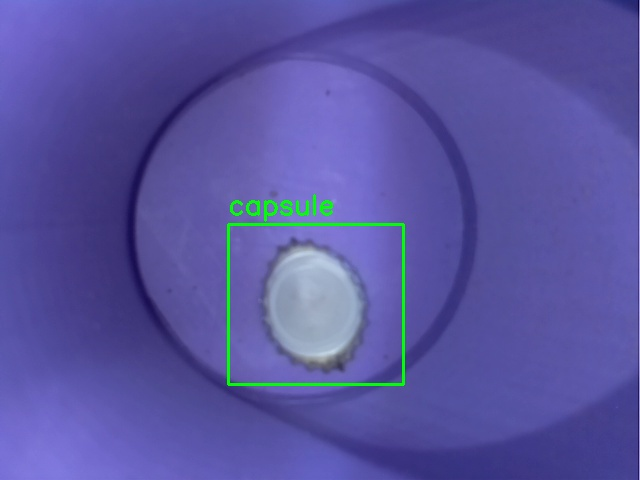capsule: (228, 224, 403, 384)
